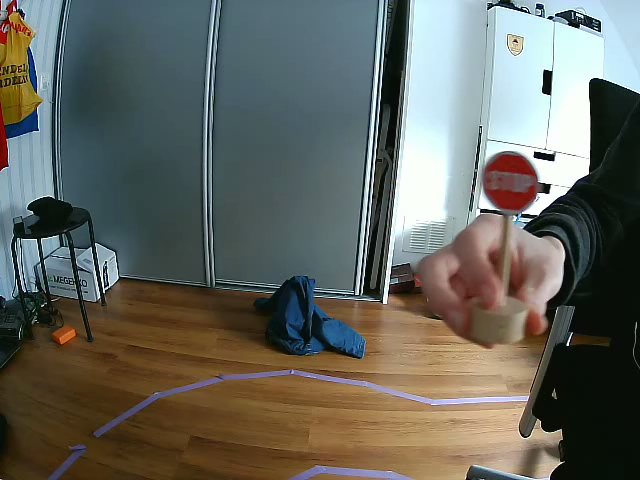stopbord: (482, 151, 540, 215)
